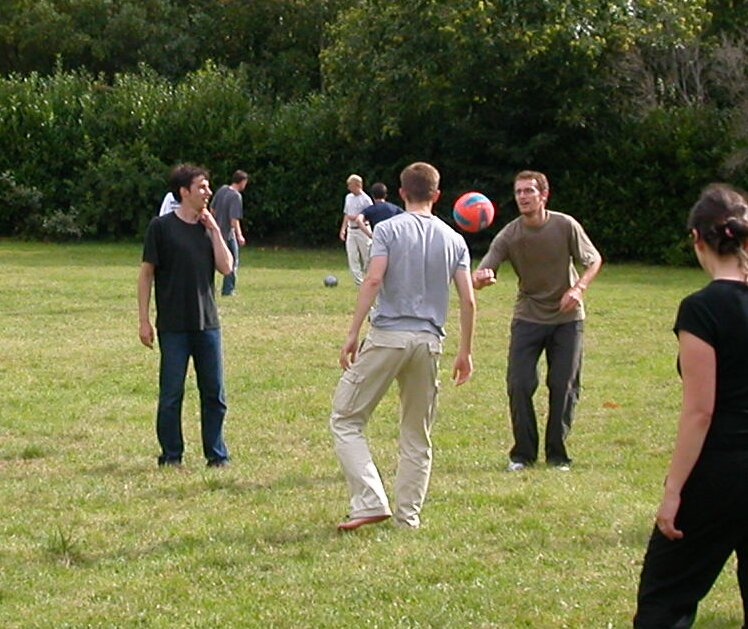person: (323, 155, 469, 548), (631, 170, 748, 629), (474, 168, 601, 471), (140, 145, 240, 473)
